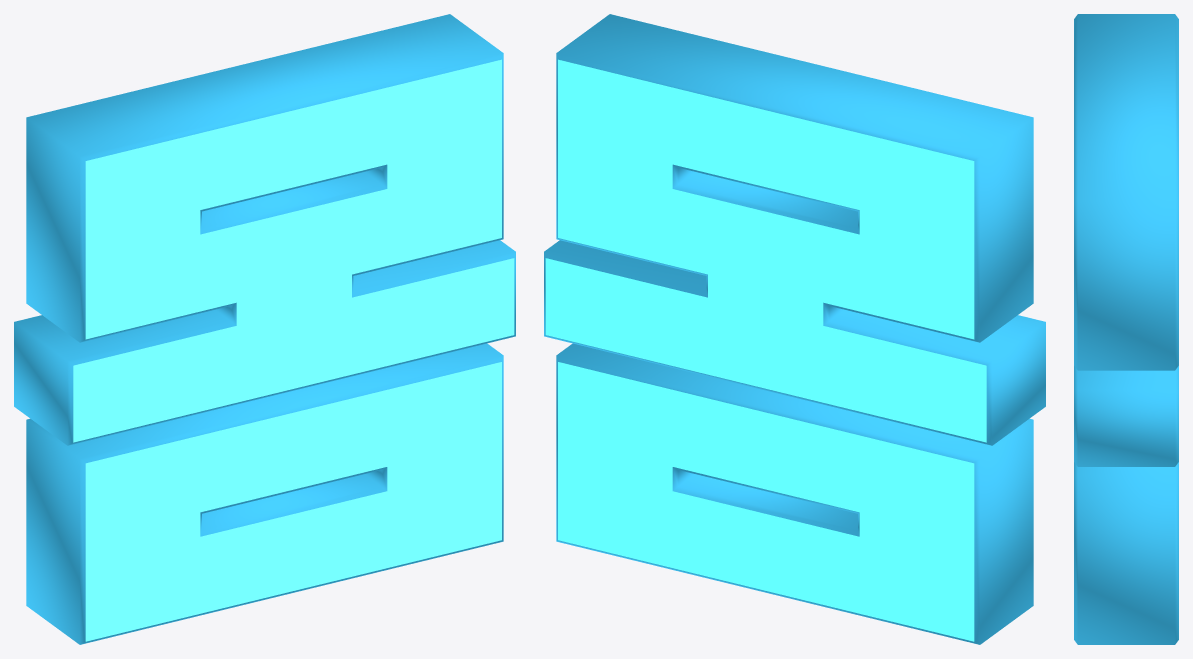
Rendered from u_bab8_b.glb.
3 renders of one model, left to right at view 1: azimuth 30°, elevation 25°; view 2: azimuth 150°, elevation 25°; view 3: azimuth 270°, elevation 25°, orthographic. The views are drawn at different scales.
Parts seen in each view (by area): view 1: glyph; view 2: glyph; view 3: glyph.
Boxes of the visible parts, <box> form: glyph: <box>14,14,515,644</box>; glyph: <box>544,14,1045,644</box>; glyph: <box>1074,14,1178,644</box>.
Bounding box in the file's own units: 0.0725 × 0.0755 × 0.0162.
